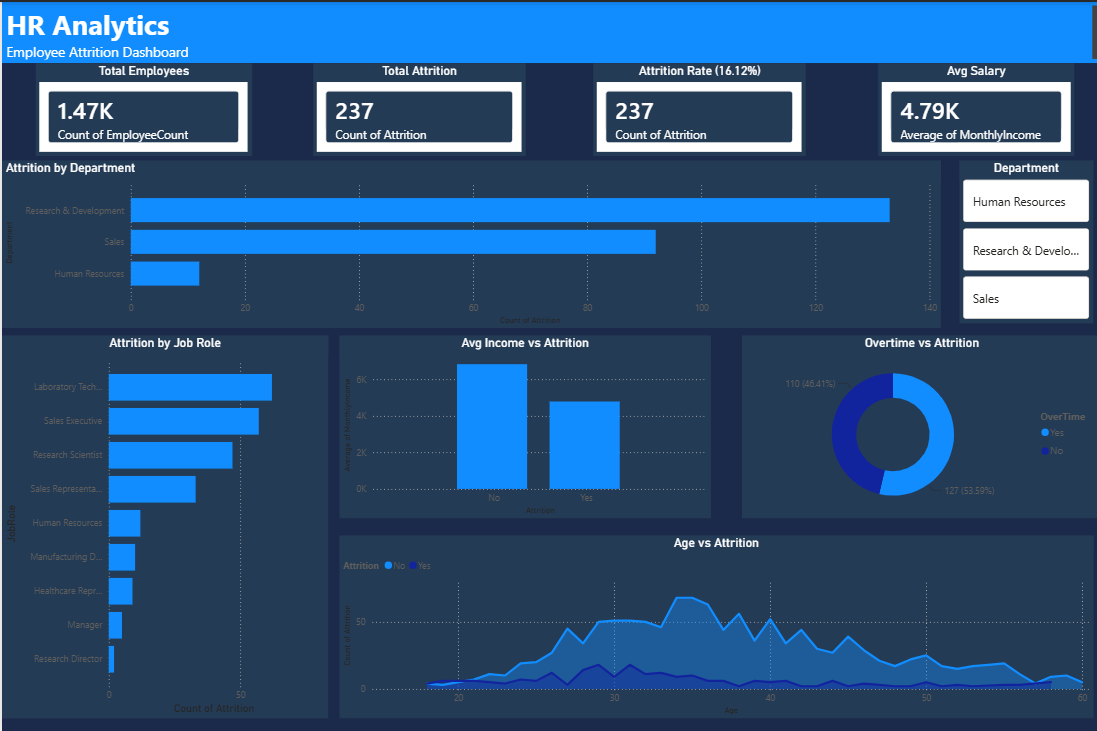

This screenshot's page, from the dashboard's own definition file:
{"tool":"powerbi","page":{"name":"Page 1","canvas":[1500,1000],"ordinal":0},"visuals":[{"type":"shape","box":[0,0,1499.7,83.5],"z":0},{"type":"textbox","box":[0,0,1499.7,83.5],"z":1000},{"type":"cardVisual","title":"Total Employees","fields":{"Data":["CountNonNull(WA_Fn-UseC_-HR-Employee-Attrition.EmployeeCount)"]},"box":[46,83.5,294.8,126.1],"z":2000},{"type":"cardVisual","title":"Total Attrition","fields":{"Data":["CountNonNull(WA_Fn-UseC_-HR-Employee-Attrition.Attrition)"]},"box":[424.3,83.5,289.7,126.1],"z":3000},{"type":"cardVisual","title":"Attrition Rate (16.12%)","fields":{"Data":["CountNonNull(WA_Fn-UseC_-HR-Employee-Attrition.Attrition)"]},"box":[806.1,83.5,289.7,126.1],"z":4000},{"type":"cardVisual","title":"Avg Salary","fields":{"Data":["Avg(WA_Fn-UseC_-HR-Employee-Attrition.MonthlyIncome)"]},"box":[1194.6,83.5,267.6,126.1],"z":5000},{"type":"clusteredBarChart","title":"Attrition by Department","fields":{"Category":["WA_Fn-UseC_-HR-Employee-Attrition.Department"],"Y":["CountNonNull(WA_Fn-UseC_-HR-Employee-Attrition.Attrition)"]},"box":[0,216.4,1279.8,228.4],"z":6000},{"type":"donutChart","title":"Overtime vs Attrition","fields":{"Category":["WA_Fn-UseC_-HR-Employee-Attrition.OverTime"],"Y":["CountNonNull(WA_Fn-UseC_-HR-Employee-Attrition.Attrition)"]},"box":[1008.9,455,490.8,248.8],"z":7000},{"type":"clusteredBarChart","title":"Attrition by Job Role","fields":{"Category":["WA_Fn-UseC_-HR-Employee-Attrition.JobRole"],"Y":["CountNonNull(WA_Fn-UseC_-HR-Employee-Attrition.Attrition)"]},"box":[0,455,444.8,521.5],"z":8000},{"type":"clusteredColumnChart","title":"Avg Income vs Attrition","fields":{"Category":["WA_Fn-UseC_-HR-Employee-Attrition.Attrition"],"Y":["Avg(WA_Fn-UseC_-HR-Employee-Attrition.MonthlyIncome)"]},"box":[460.1,455,506.1,248.8],"z":9000},{"type":"areaChart","title":"Age vs Attrition","fields":{"Category":["WA_Fn-UseC_-HR-Employee-Attrition.Age"],"Y":["CountNonNull(WA_Fn-UseC_-HR-Employee-Attrition.Attrition)"],"Series":["WA_Fn-UseC_-HR-Employee-Attrition.Attrition"]},"box":[460.1,727.7,1027.6,248.8],"z":10000},{"type":"advancedSlicerVisual","fields":{"Values":["WA_Fn-UseC_-HR-Employee-Attrition.Department"]},"box":[1305.4,216.4,182.3,221.5],"z":11000}]}

Visuals, with their boxes in screenshot pixels (x1, y1, x2, y2), scaled from the page's 1500x1000 canvas onto the 1097x731 screenshot:
shape: select_region(0, 0, 1096, 61)
textbox: select_region(0, 0, 1096, 61)
"Total Employees" cardVisual: select_region(34, 61, 249, 153)
"Total Attrition" cardVisual: select_region(310, 61, 522, 153)
"Attrition Rate (16.12%)" cardVisual: select_region(590, 61, 801, 153)
"Avg Salary" cardVisual: select_region(874, 61, 1069, 153)
"Attrition by Department" clusteredBarChart: select_region(0, 158, 936, 325)
"Overtime vs Attrition" donutChart: select_region(738, 333, 1096, 514)
"Attrition by Job Role" clusteredBarChart: select_region(0, 333, 325, 714)
"Avg Income vs Attrition" clusteredColumnChart: select_region(336, 333, 707, 514)
"Age vs Attrition" areaChart: select_region(336, 532, 1088, 714)
advancedSlicerVisual - WA_Fn-UseC_-HR-Employee-Attrition.Department: select_region(955, 158, 1088, 320)
